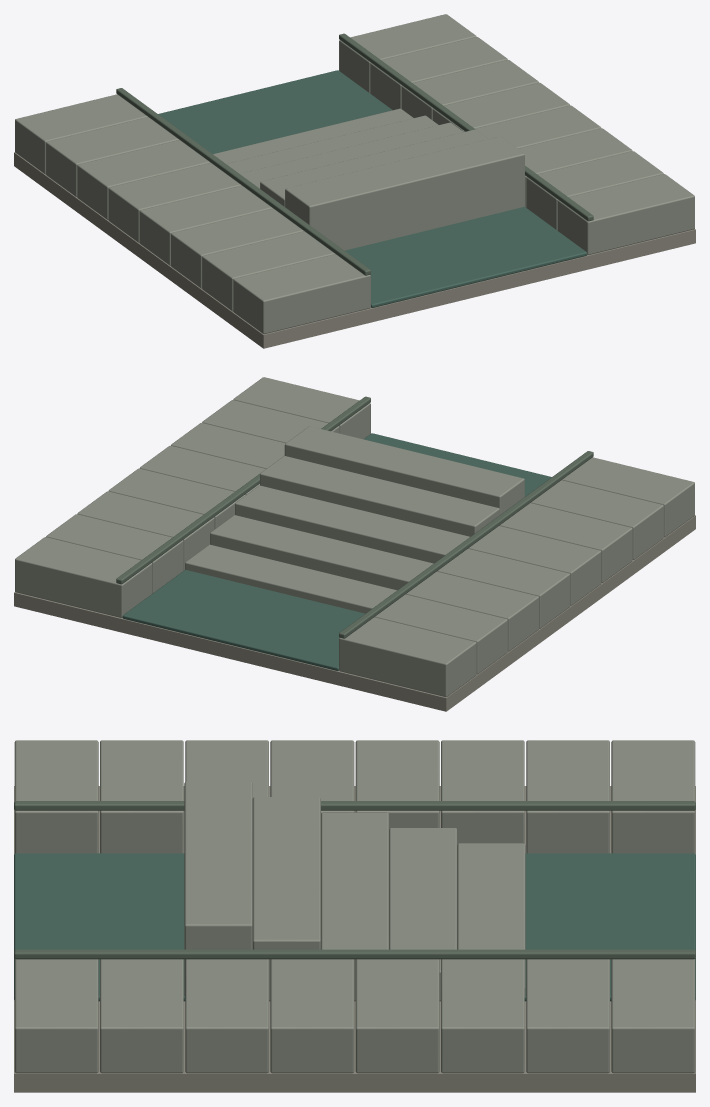
The model's file is undercity-sewers-and-thieves-den-stepped-drop-15fec415__25014.glb.
The picture shows the model from 3 angles, top to bottom: view 1: azimuth 30°, elevation 25°; view 2: azimuth 150°, elevation 25°; view 3: azimuth 270°, elevation 25°; orthographic projection. The views are drawn at different scales.
Visible parts, largest first — view 1: stepped-drop; view 2: stepped-drop; view 3: stepped-drop.
Boxes of the visible parts, x1=… form: stepped-drop: x1=14, y1=14, x2=695, y2=348; stepped-drop: x1=14, y1=377, x2=695, y2=711; stepped-drop: x1=14, y1=740, x2=695, y2=1092.
Bounding box in the file's own units: 4 × 0.6201 × 4.
